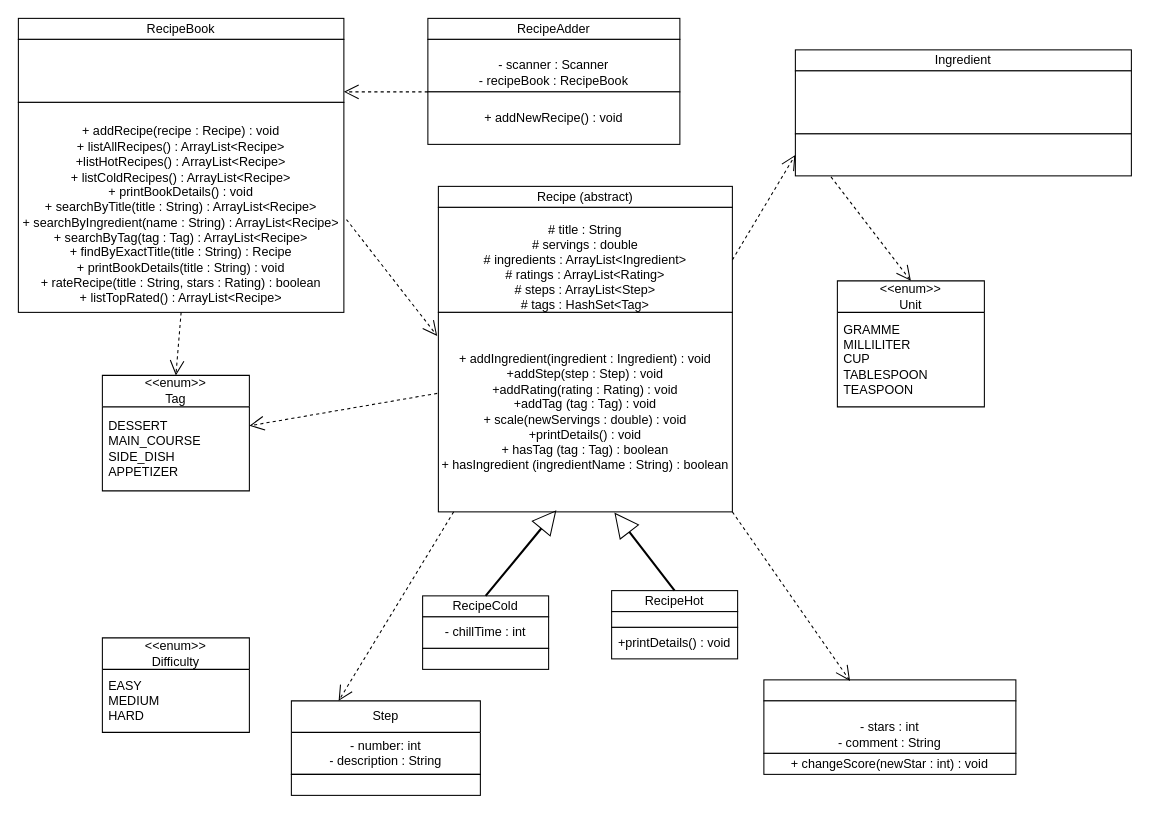
The diagram is 1150 pixels wide and 814 high, and some of its shapes have lost their labels. The centre of each missing label's shape, as x and y in pixels:
+ printDetails() : void: (485,658)
+ scale (factor : double) : void: (962,154)
- cookingTime : int: (674,619)
- name : String amount : double - unit : Unit: (962,102)
- title : String - author : String - recipes : ArrayList<Recipe>: (180,70)
Rating: (889,690)
